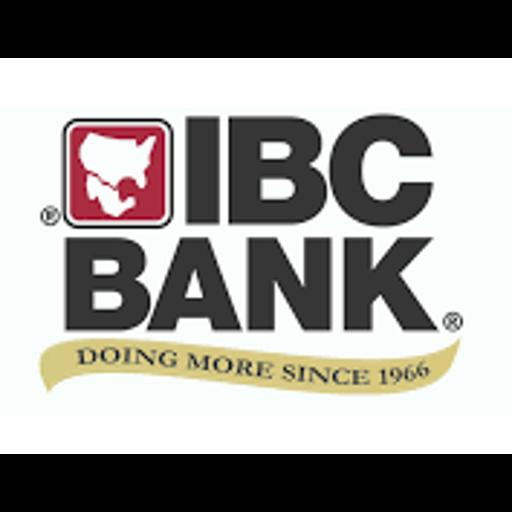IBC Bank: (0, 58, 512, 454)
